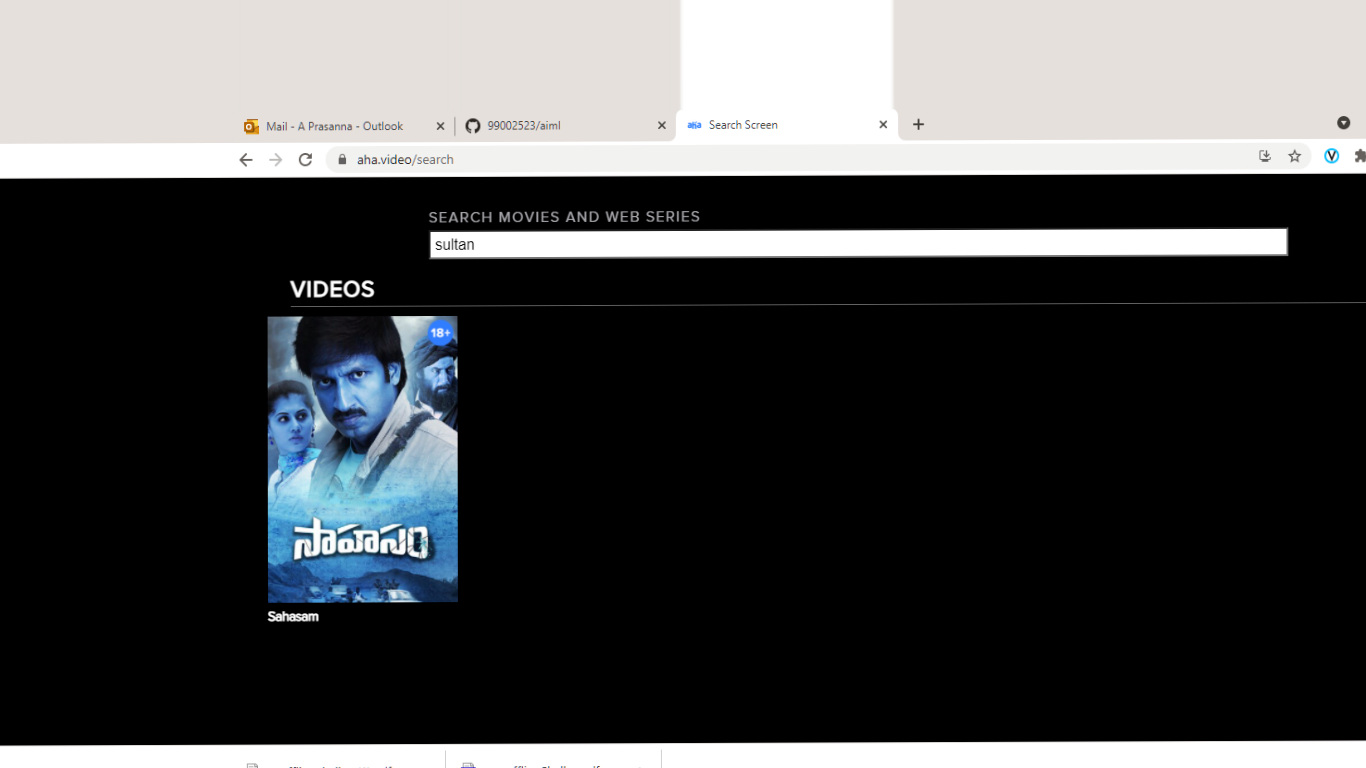resultsfound: (271, 252, 1361, 303)
searchtextbox: (407, 197, 1292, 288)
